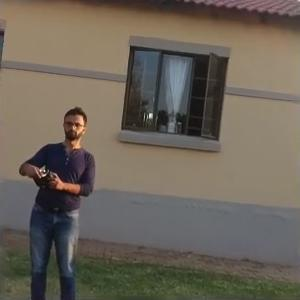follow: (12, 99, 98, 298)
